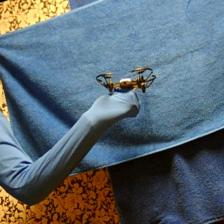drone: (95, 66, 156, 96)
